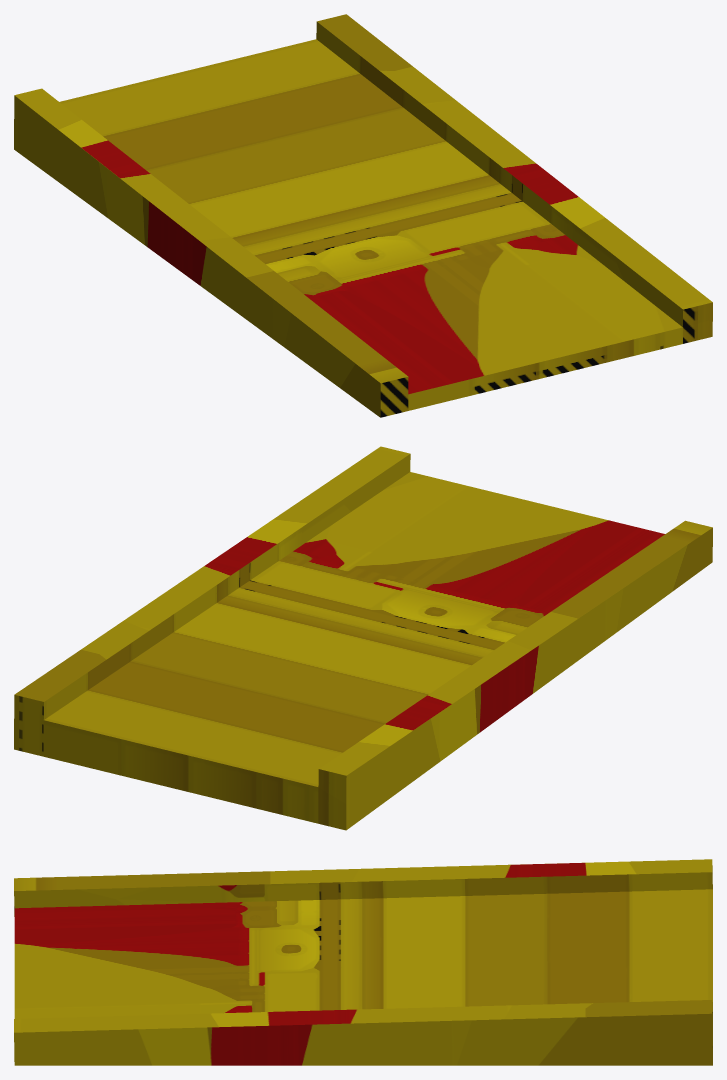
Rendered from road_itog.fbx.
The picture shows the model from 3 angles, top to bottom: view 1: azimuth 30°, elevation 25°; view 2: azimuth 150°, elevation 25°; view 3: azimuth 270°, elevation 25°; orthographic projection. The views are drawn at different scales.
Visible parts, largest first — view 1: Cube.002; view 2: Cube.002; view 3: Cube.002.
Boxes of the visible parts, <box> form: Cube.002: <box>14,14,712,417</box>; Cube.002: <box>14,446,712,830</box>; Cube.002: <box>14,859,712,1065</box>.
Bounding box in the file's own units: 222 × 34.82 × 425.
